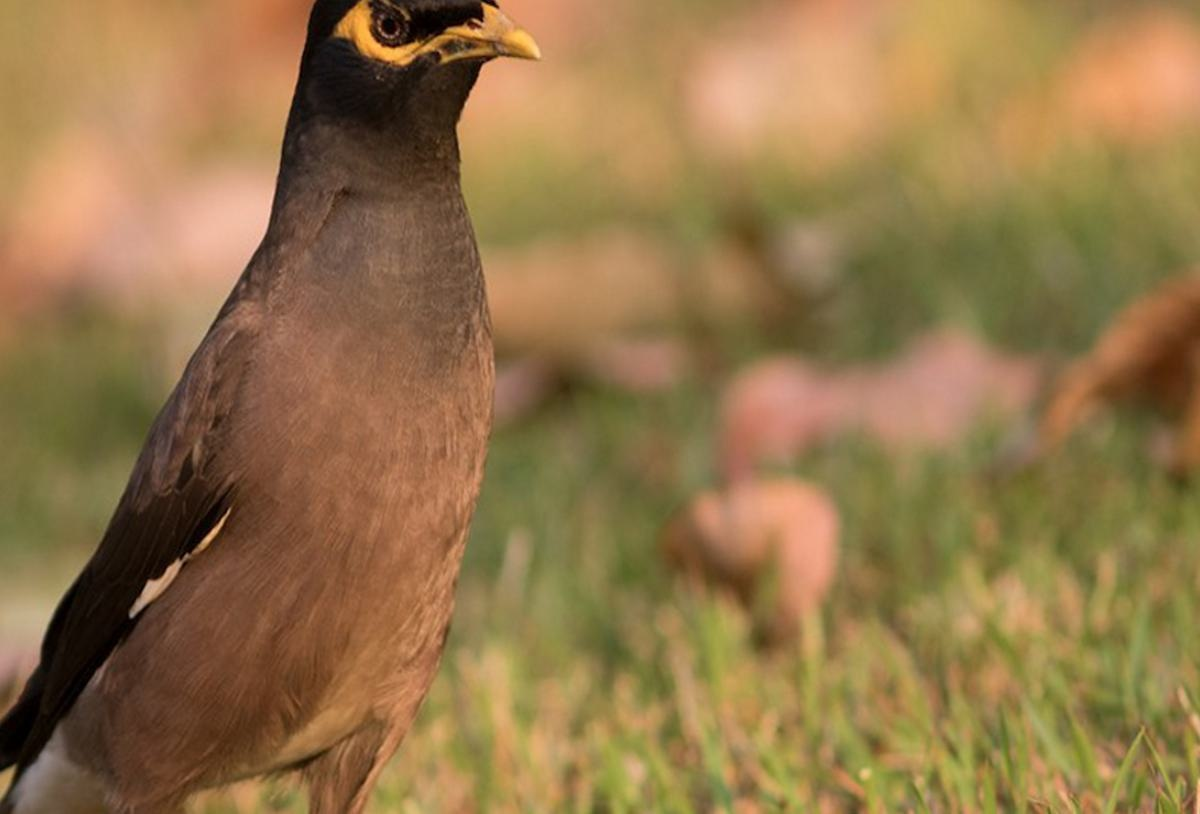myna: (63, 10, 583, 750)
